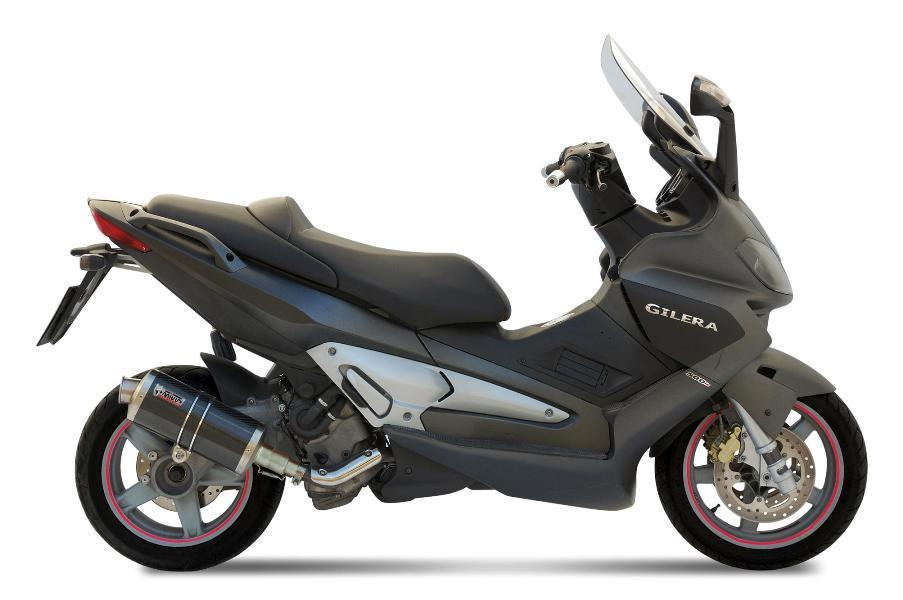engine-chasis: (267, 332, 723, 511)
exhaust: (118, 367, 396, 510)
frontside: (594, 33, 837, 497)
handlebar: (540, 141, 637, 227), (690, 74, 740, 202), (658, 92, 700, 139), (655, 166, 696, 213)
motorbike: (38, 37, 869, 570)
rearside: (38, 37, 869, 570), (36, 197, 437, 455)
seat: (142, 194, 512, 329)
tank: (416, 272, 687, 407)
wheel: (74, 384, 286, 572), (654, 391, 868, 571), (708, 397, 724, 441)
